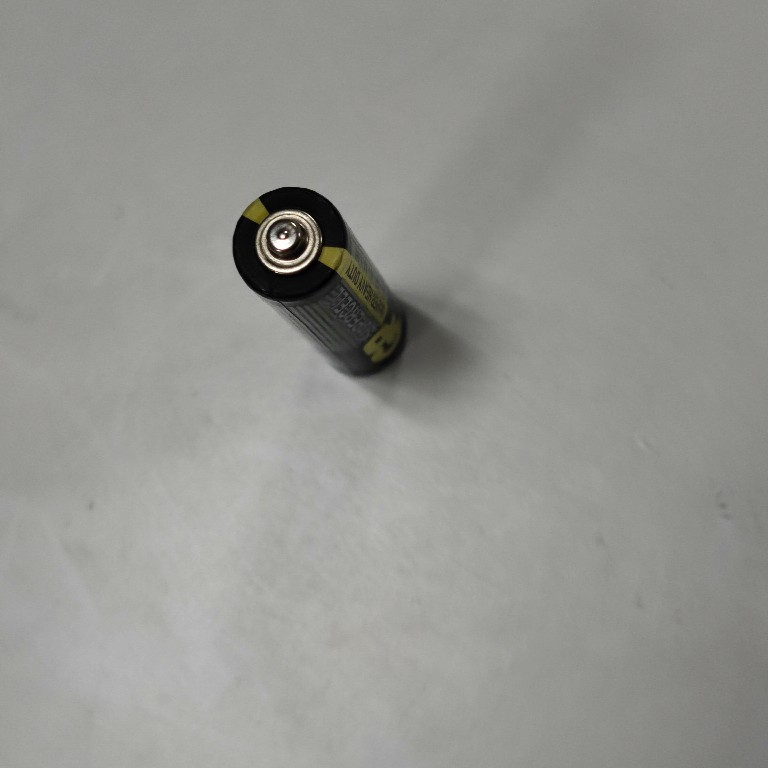charge: (229, 184, 411, 378)
